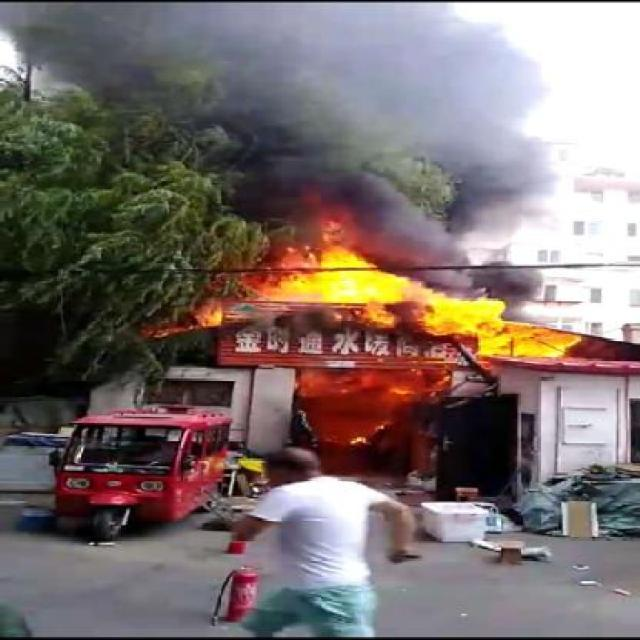Smoke: (252, 230, 580, 366)
